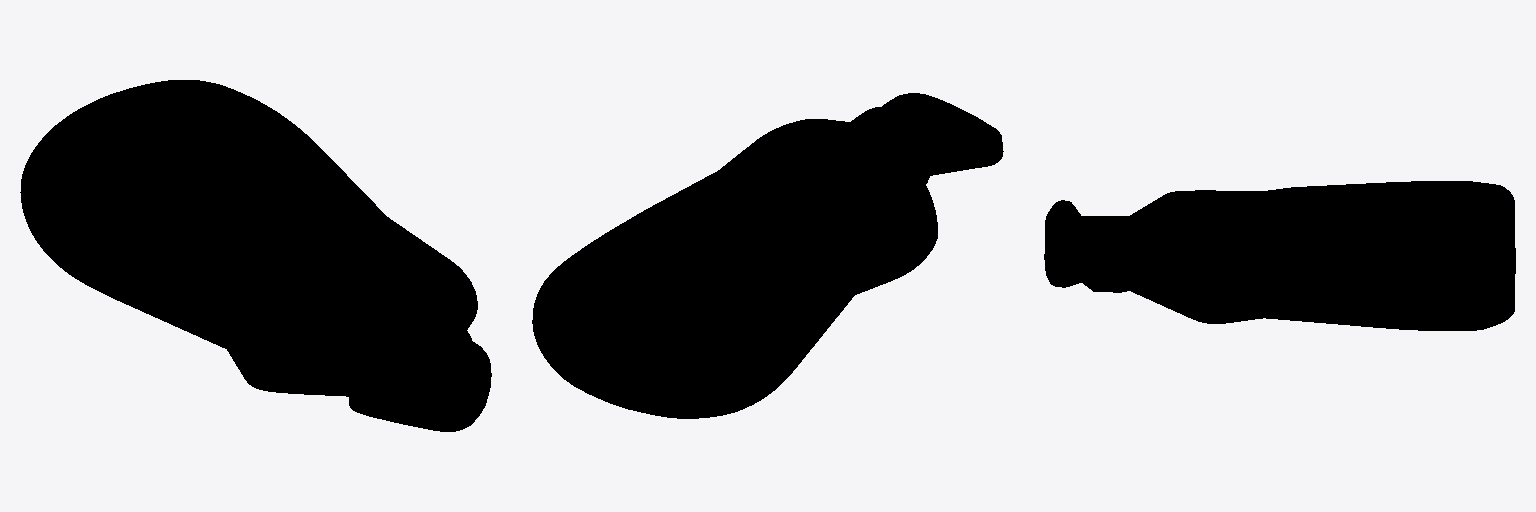
URDF robot description (graspnet-040):

<robot name="graspnet-040">
  <link name="link_graspnet-040">
    <inertial>
      <origin xyz="0 0 0" rpy="0 0 0"/>
    </inertial>
    <visual>
      <origin xyz="0 0 0" rpy="0 0 0"/>
      <geometry>
        <mesh filename="decomposed.obj"/>
      </geometry>
      <material name="">
        <color rgba="0 0 0 1"/>
      </material>
    </visual>
    <collision>
      <origin xyz="0 0 0" rpy="0 0 0"/>
      <geometry>
        <mesh filename="decomposed.obj"/>
      </geometry>
    </collision>
  </link>
</robot>

--- What the picture shows (computed from the rendered views, not written in the file) ---
Views: 3 orthographic renders of the robot side by side, from view 1: azimuth 30°, elevation 25°; view 2: azimuth 150°, elevation 25°; view 3: azimuth 270°, elevation 25°.
Robot: graspnet-040 — 1 links, 0 joints (none); root link link_graspnet-040; default pose: every joint at zero.
Visible links, largest first — view 1: link_graspnet-040; view 2: link_graspnet-040; view 3: link_graspnet-040.
Link boxes in pixels (bbox=[...]): link_graspnet-040: bbox=[20, 80, 491, 431]; link_graspnet-040: bbox=[532, 93, 1003, 418]; link_graspnet-040: bbox=[1044, 181, 1515, 330].
Size in the robot's own frame: 0.0937 by 0.2077 by 0.056 metres.
Meshes: 1 distinct files referenced, 1 mesh visuals loaded (1 OBJ).
